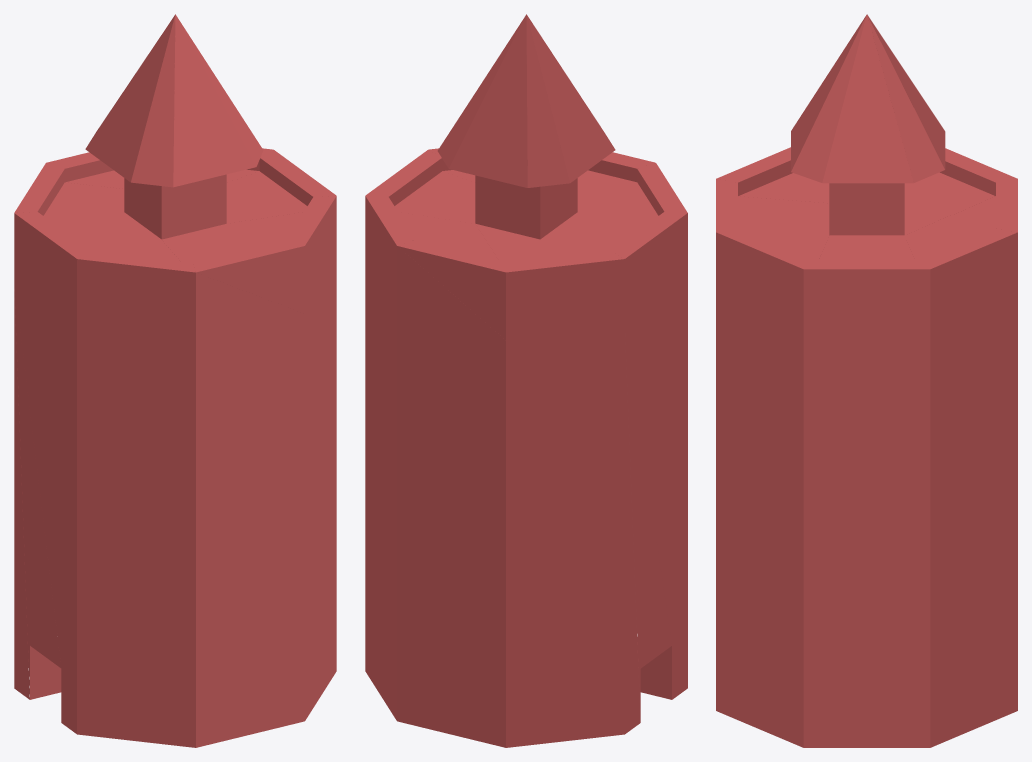
Rendered from bk_tower.glb.
The picture shows the model from 3 angles, left to right: view 1: azimuth 30°, elevation 25°; view 2: azimuth 150°, elevation 25°; view 3: azimuth 270°, elevation 25°; orthographic projection.
Parts seen in each view (by area): view 1: bk_tower_col; view 2: bk_tower_col; view 3: bk_tower_col.
Part boxes in pixels (<box>): bk_tower_col: <box>14,14,336,747</box>; bk_tower_col: <box>365,14,687,747</box>; bk_tower_col: <box>716,14,1017,747</box>.
Bounding box in the file's own units: 1 × 2.45 × 1.
